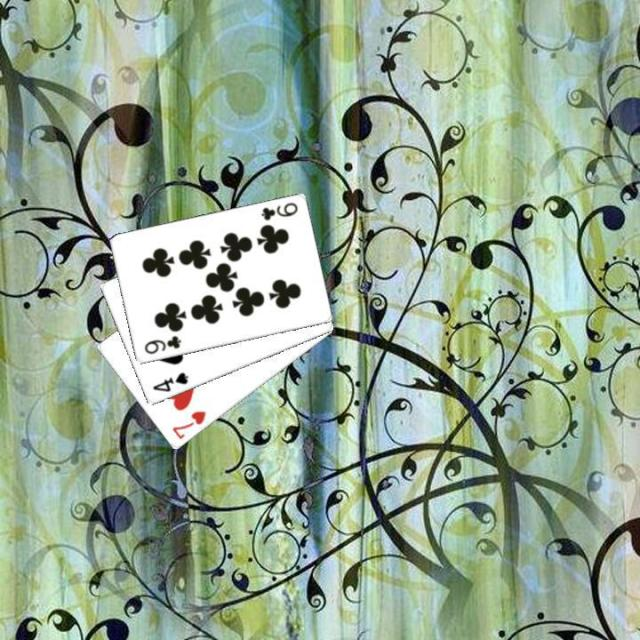4S: (148, 369, 190, 394)
7H: (168, 407, 208, 442)
9C: (141, 332, 183, 356), (257, 199, 299, 222)
